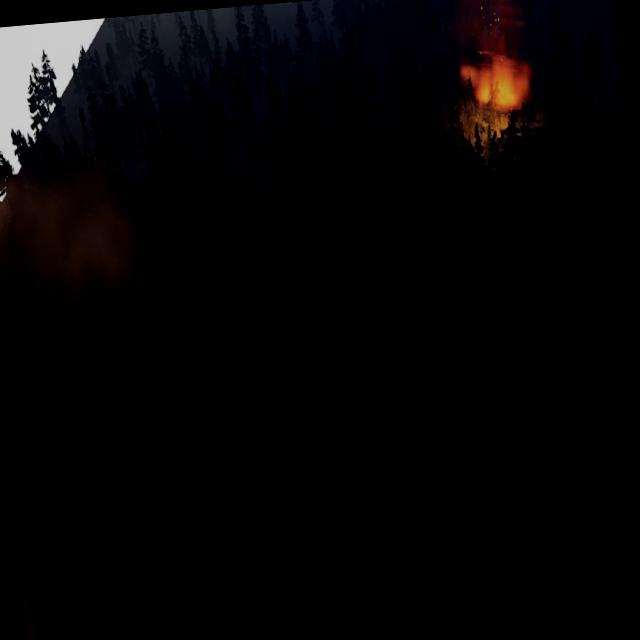fire: (458, 45, 534, 116)
smoke: (0, 130, 161, 331), (18, 535, 69, 640), (444, 0, 524, 51)
